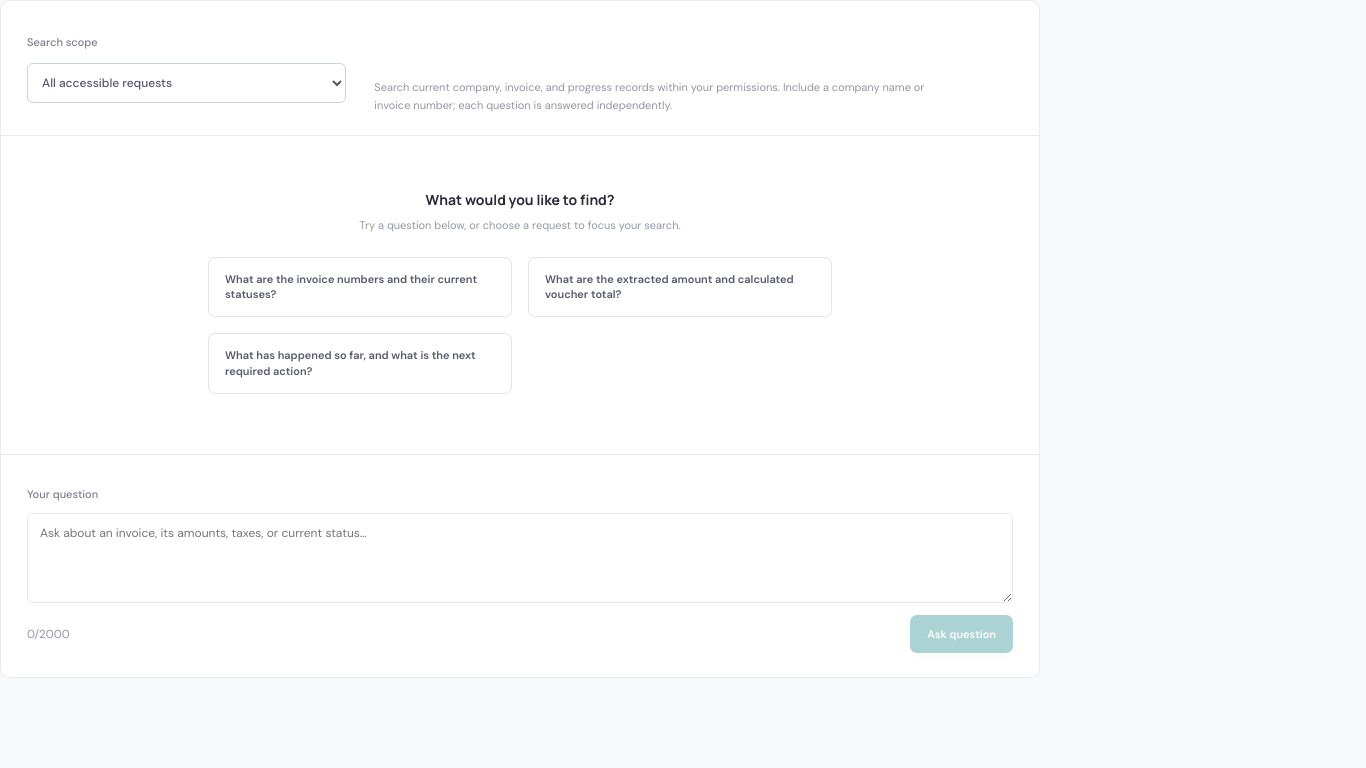
Test: preserves the question after an upstream error and allows retry
Type "Unknown invoice?" into the text box labelled "Your question" at [520, 558], box [27,513,1013,603]
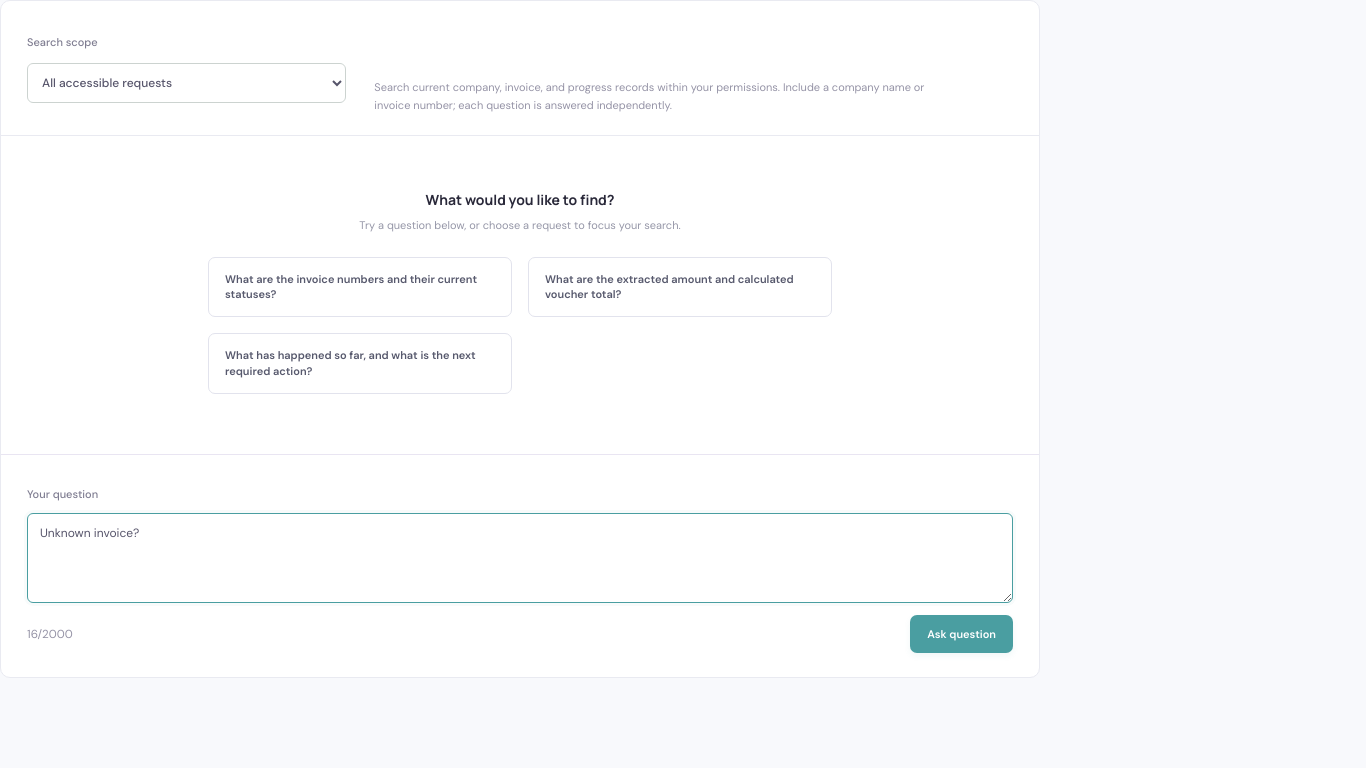
Click the button "Ask question" at [962, 634], box [910,615,1013,653]
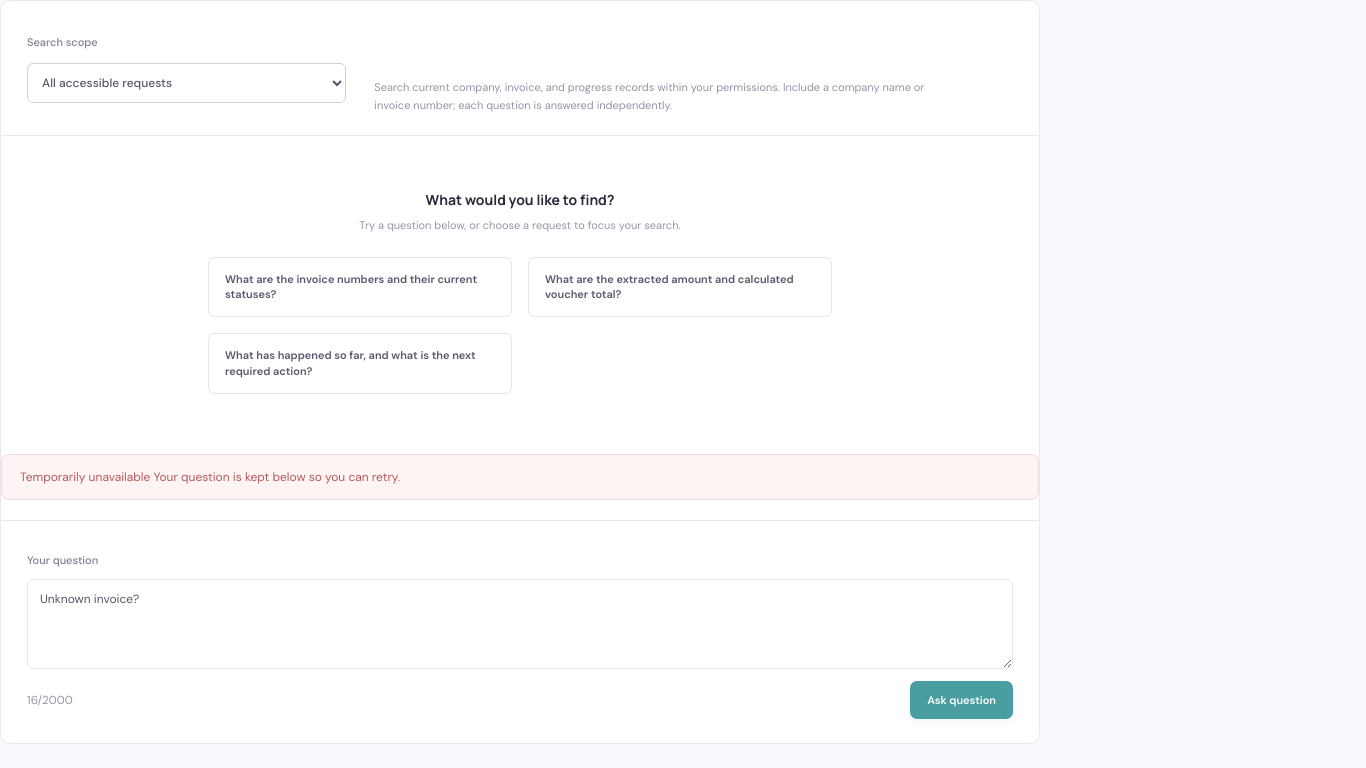
Now the message "Temporarily unavailable Your question is kept below so you can retry." is shown, box [1,454,1039,500]
Click the button "Ask question" at [962, 700], box [910,681,1013,719]
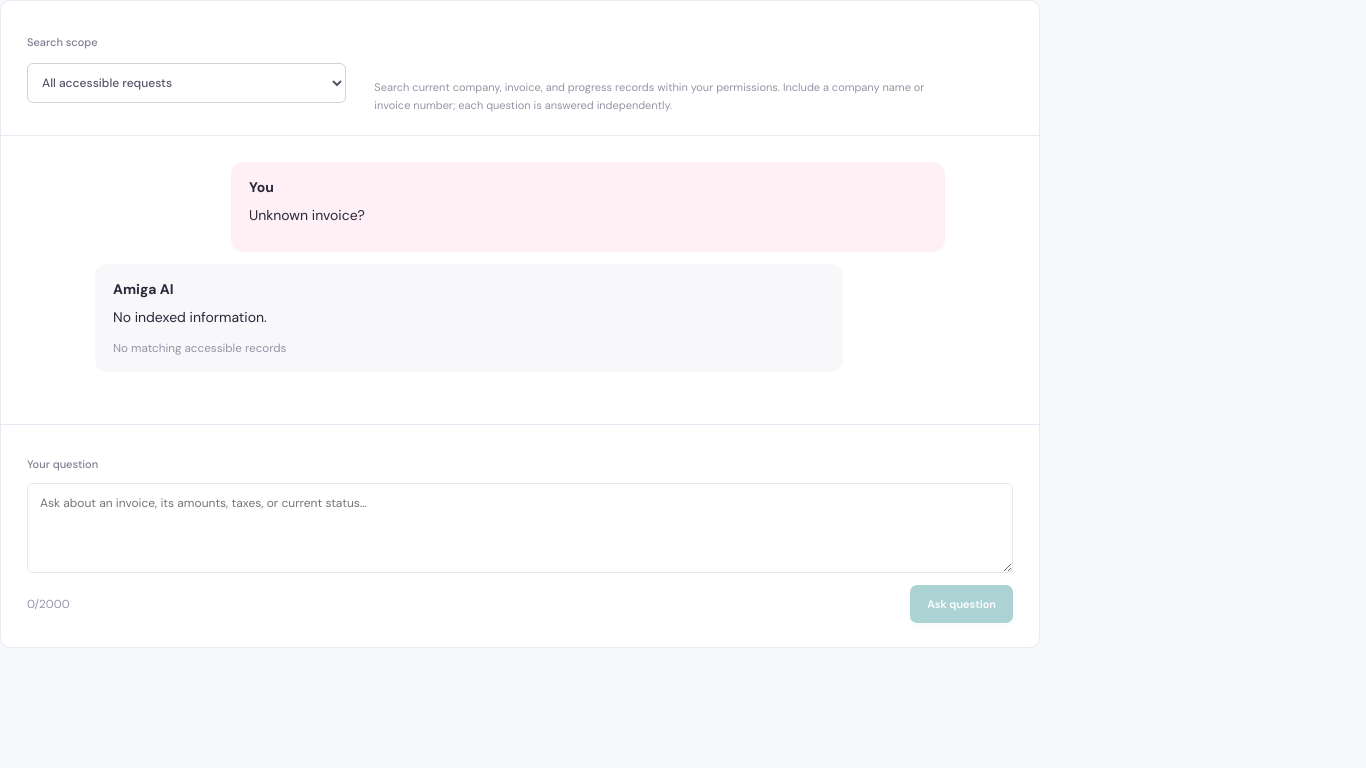
Now the text "No indexed information." is shown, box [113,308,267,326]
Now the text box labelled "Your question" is empty, box [27,483,1013,573]
Now the text "No matching accessible records" is shown, box [113,340,286,356]
